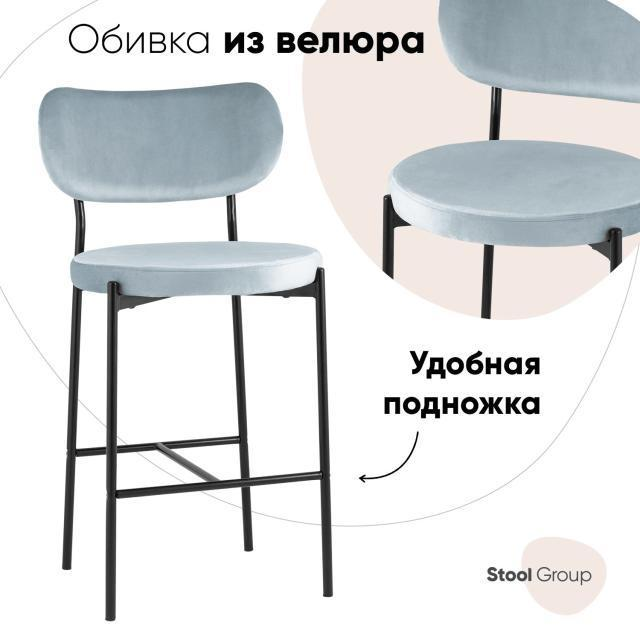chair: (39, 76, 342, 622), (44, 73, 338, 294), (406, 0, 640, 222)
